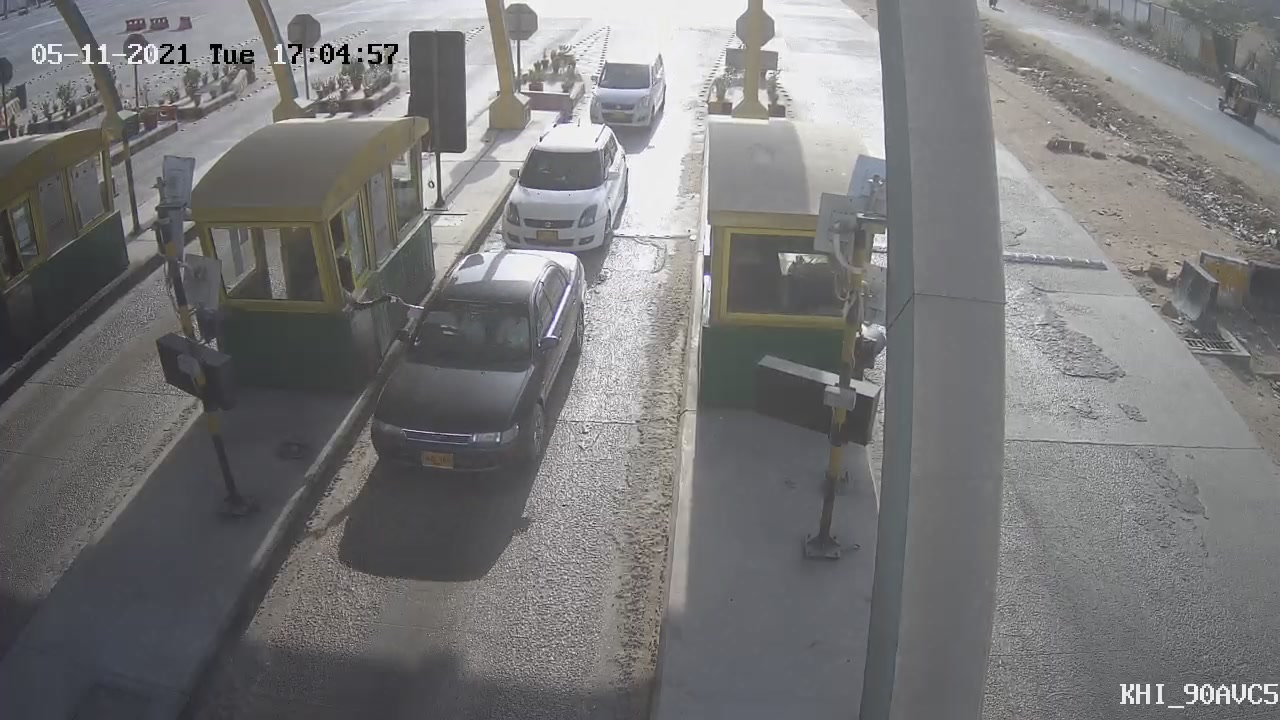F1: (344, 227, 608, 501), (484, 106, 644, 273), (575, 38, 679, 144)
